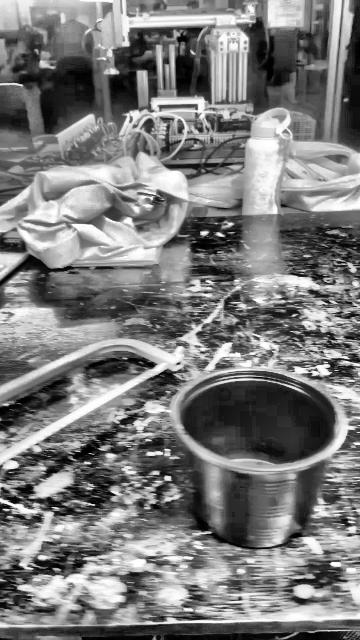pot: (176, 369, 338, 548)
